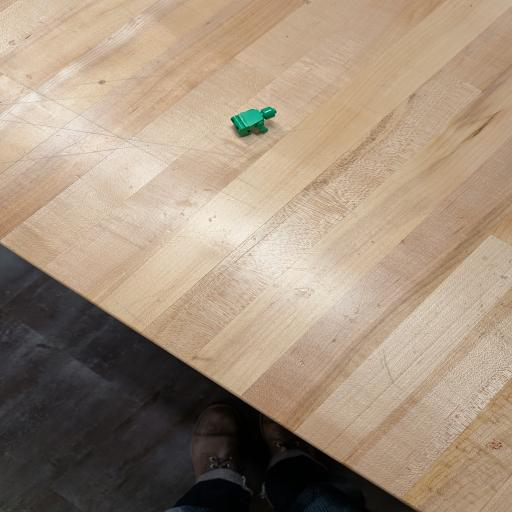Minifig: (231, 107, 276, 137)
